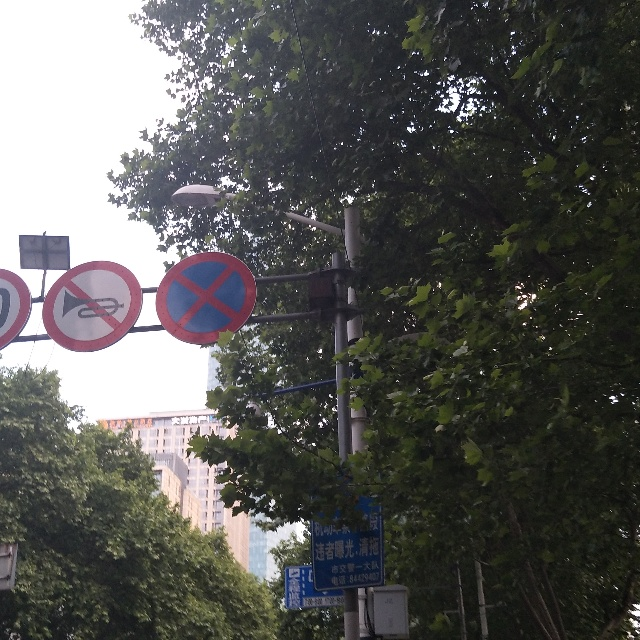nohonk: (43, 261, 143, 352)
stop: (156, 252, 257, 346)
